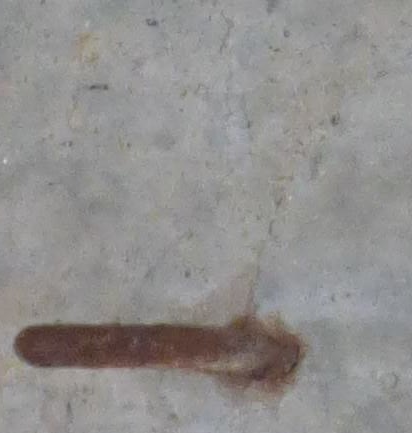Exposed reinforcement: (12, 322, 288, 378)
